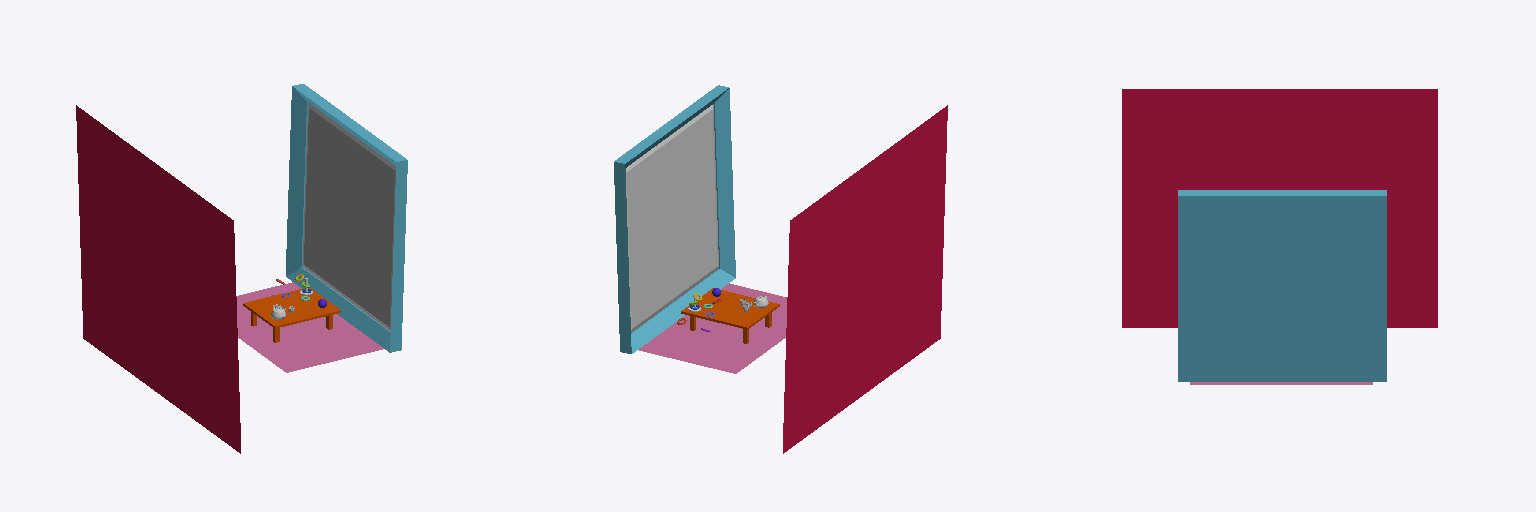
File: finalscene.obj
3 renders of one model, left to right at view 1: azimuth 30°, elevation 25°; view 2: azimuth 150°, elevation 25°; view 3: azimuth 270°, elevation 25°, orthographic.
Visible parts, largest first — view 1: Plane_Plane.001, 14319_Artik_Mirror-Black_v1_l1.001, Plane, Cube.003; view 2: Plane_Plane.001, 14319_Artik_Mirror-Black_v1_l1.001, Plane, Cube.003; view 3: Plane_Plane.001, 14319_Artik_Mirror-Black_v1_l1.001, Plane.
Boxes of the visible parts, box(x1,y1,x2,y2) form: Plane_Plane.001: box(76, 105, 240, 453); 14319_Artik_Mirror-Black_v1_l1.001: box(286, 84, 407, 352); Plane: box(236, 282, 383, 372); Cube.003: box(243, 288, 340, 342); Plane_Plane.001: box(783, 105, 947, 453); 14319_Artik_Mirror-Black_v1_l1.001: box(614, 85, 735, 353); Plane: box(639, 283, 786, 373); Cube.003: box(681, 288, 779, 343); Plane_Plane.001: box(1122, 89, 1437, 327); 14319_Artik_Mirror-Black_v1_l1.001: box(1178, 190, 1386, 381); Plane: box(1190, 382, 1372, 384).
Bounding box in the file's own units: 17.57 × 19.59 × 23.84.